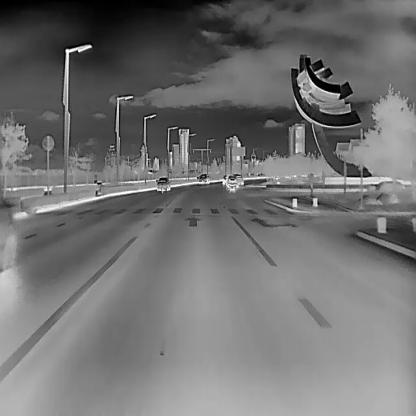car: (155, 175, 170, 191), (225, 175, 238, 188), (198, 173, 209, 185), (233, 173, 243, 186)
